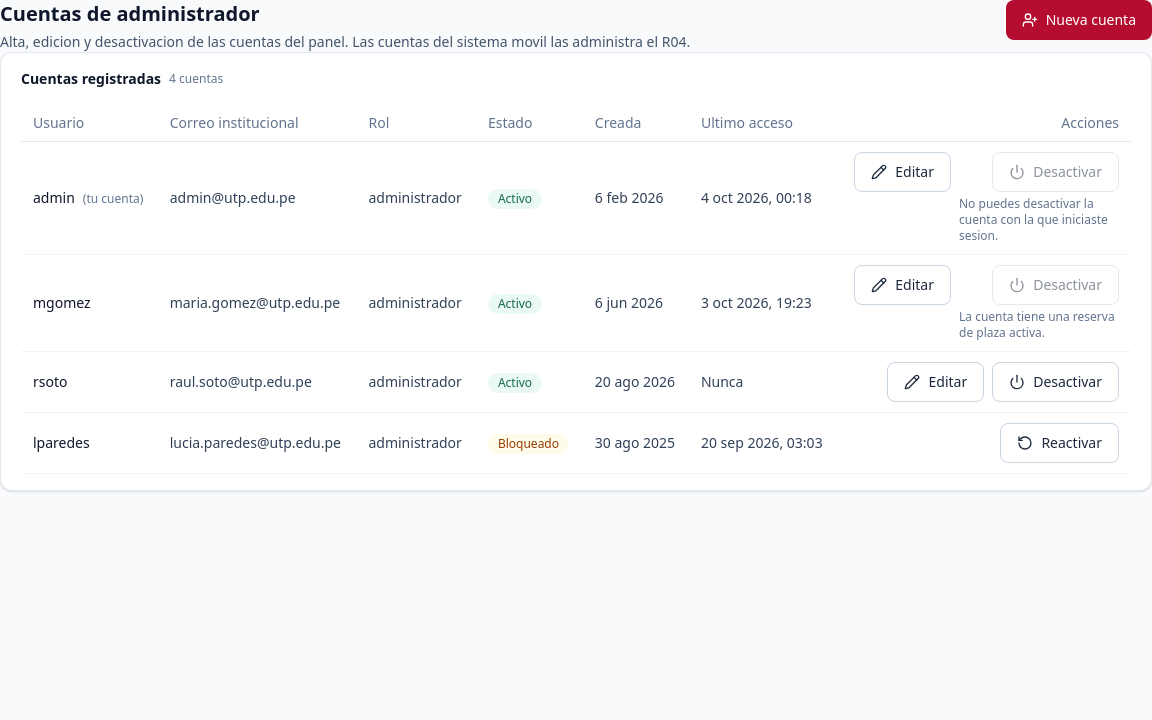
Test case: CuentasAdminPage (RFA12) › rechaza un alta sin correo institucional antes de pegarle al servidor
The width and height of the screenshot is (1152, 720).
Click the button "Nueva cuenta": click(1079, 20) [1006, 0, 1151, 40]
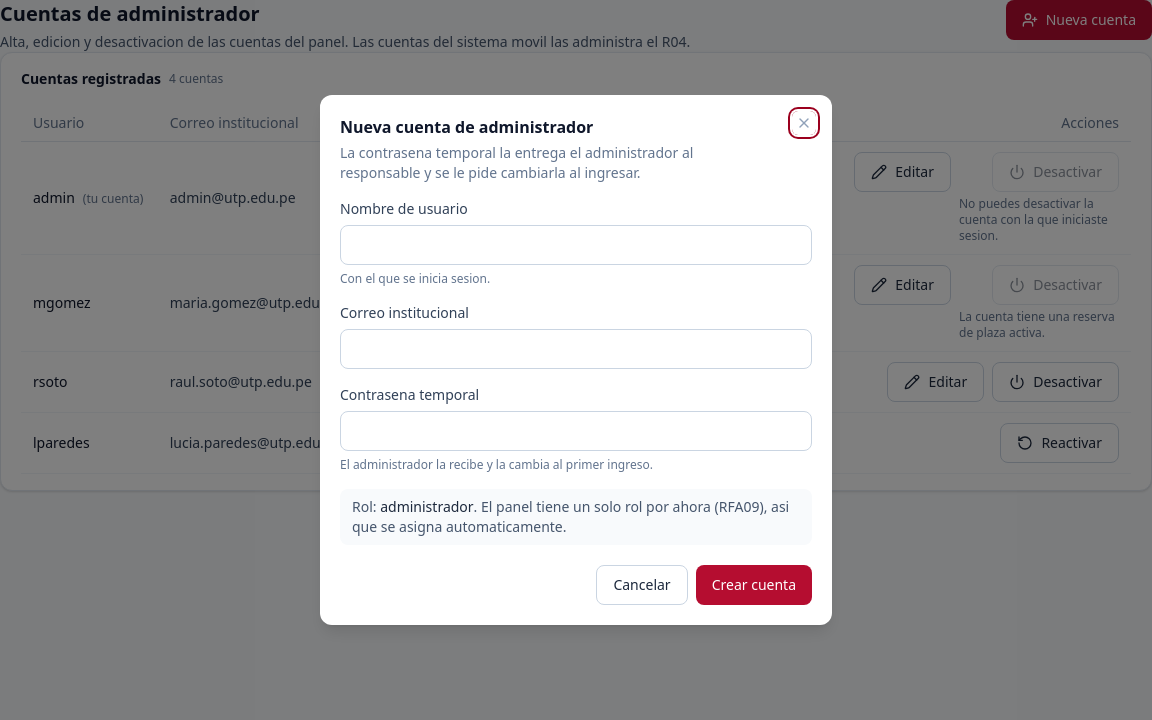
In the field labelled "Nombre de usuario": (576, 245) [340, 225, 812, 265], type "aperez"
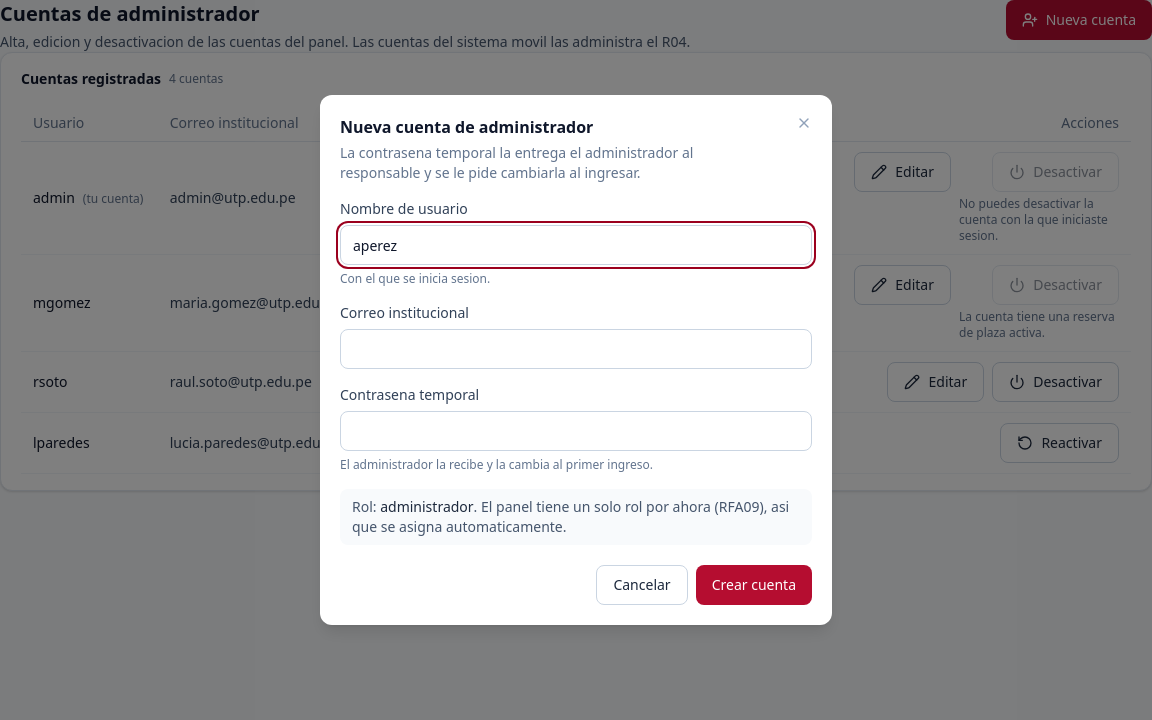
In the field labelled "Correo institucional": (576, 349) [340, 329, 812, 369], type "aperez@gmail.com"
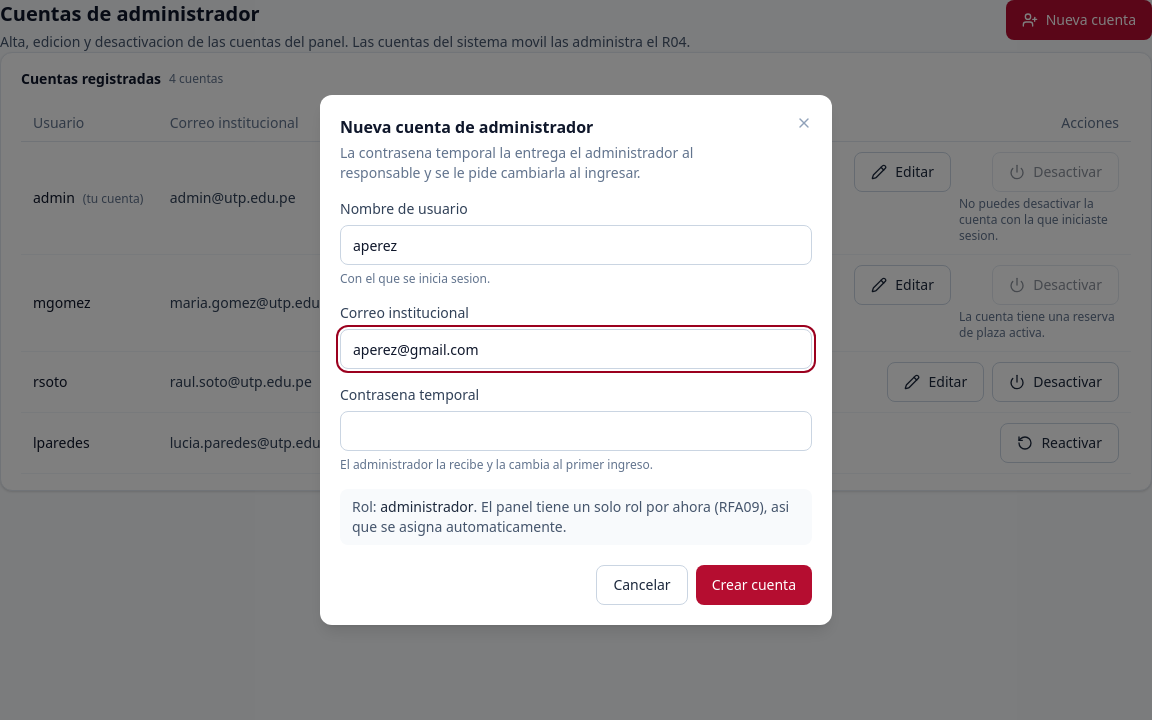
Click the button "Crear cuenta": click(754, 585) [696, 565, 812, 605]
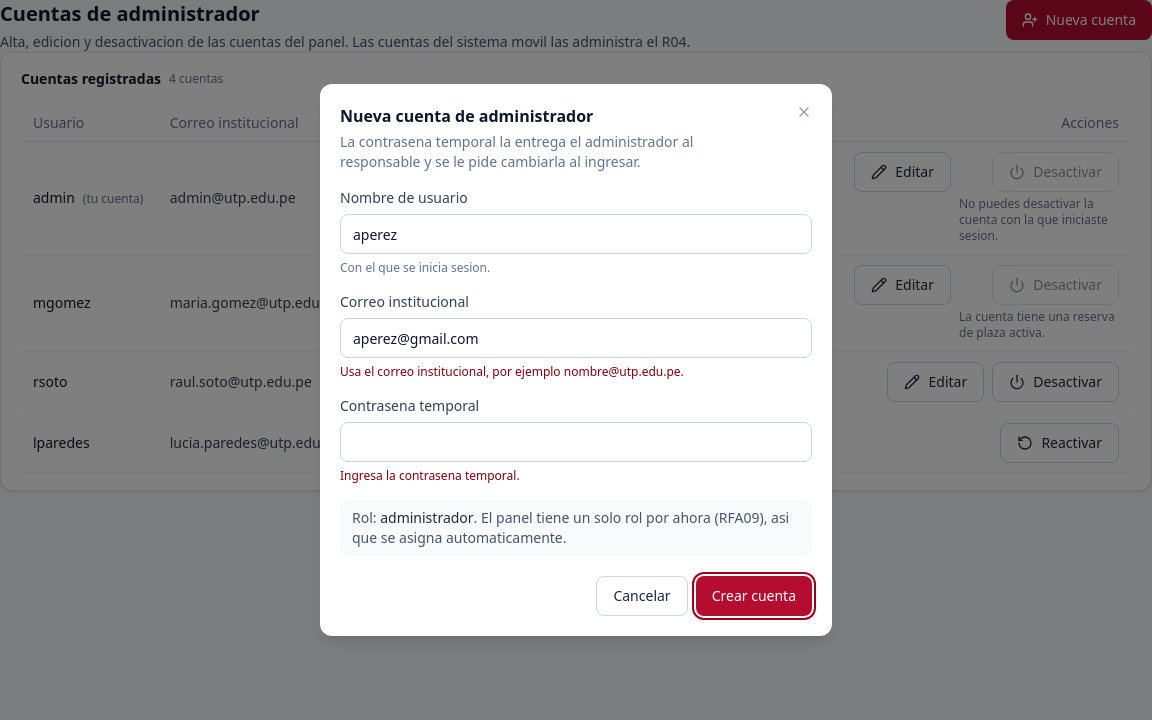
Check: the text "Usa el correo institucional, por ejemplo nombre@utp.edu.pe." is shown, box [340, 363, 684, 380]
